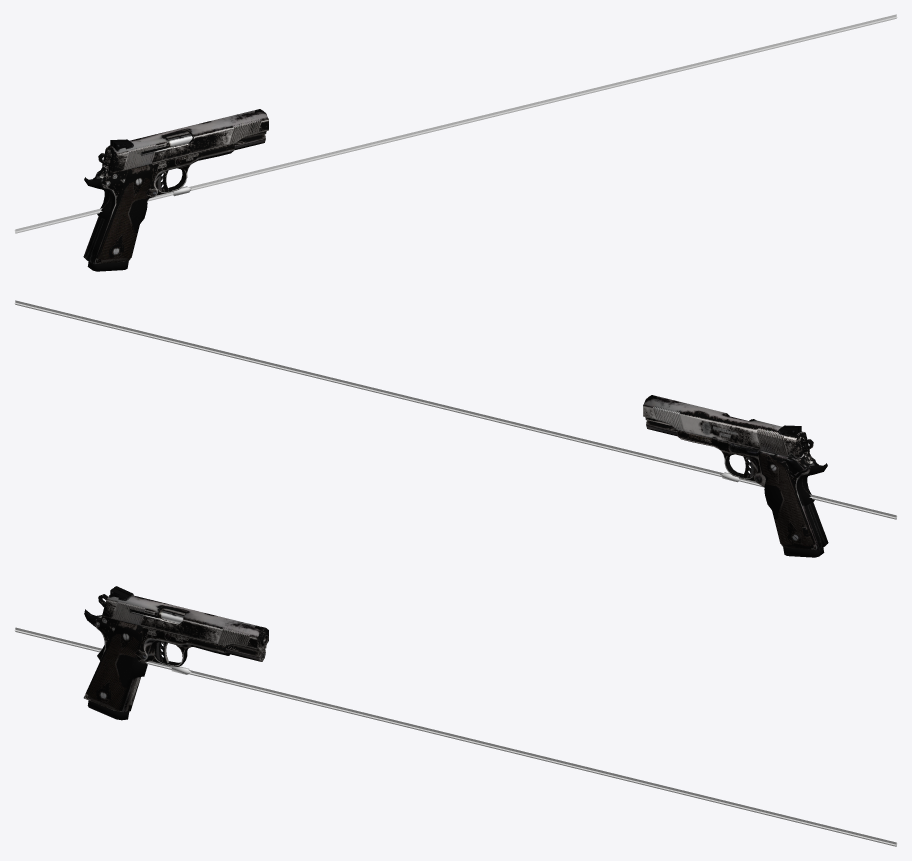
File: Handgun.glb
3 views of the same model, one above another, from view 1: azimuth 30°, elevation 25°; view 2: azimuth 150°, elevation 25°; view 3: azimuth 330°, elevation 25° (orthographic).
Visible parts, largest first — view 1: Gun, Cube.005, bullet; view 2: Gun, Cube.005, bullet; view 3: Gun, Cube.005, bullet.
Boxes of the visible parts, box(x1,y1,x2,y2) form: Gun: box(83, 131, 234, 264); Cube.005: box(102, 109, 268, 173); bullet: box(14, 14, 897, 233); Gun: box(677, 415, 828, 550); Cube.005: box(643, 395, 809, 459); bullet: box(14, 300, 897, 519); Gun: box(83, 594, 268, 712); Cube.005: box(102, 586, 268, 661); bullet: box(14, 627, 897, 846).
Bounding box in the file's own units: 9.03 × 1.26 × 0.2514.
Materials: 3 (1 with a texture image).
